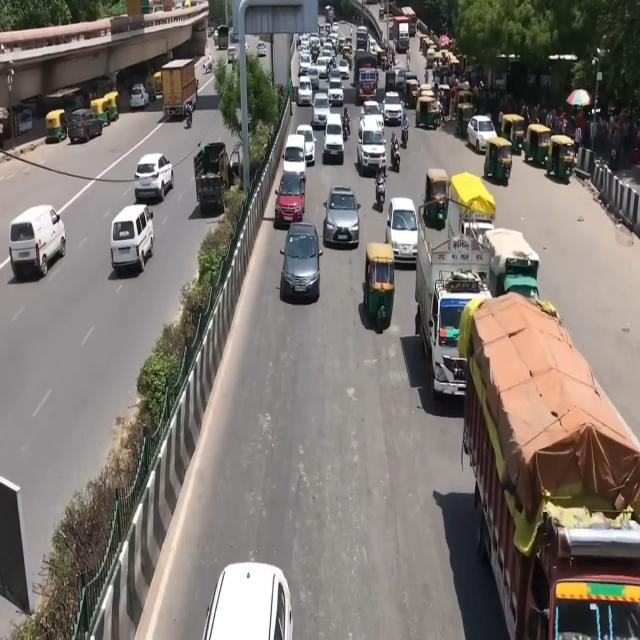auto: (362, 242, 395, 330), (424, 167, 449, 227), (547, 134, 575, 181), (485, 136, 513, 183), (524, 122, 552, 166), (44, 104, 71, 147), (500, 112, 526, 155), (415, 94, 439, 132), (456, 100, 478, 140), (90, 94, 112, 132), (405, 78, 420, 110)
bike-auto: (390, 134, 400, 170), (342, 107, 351, 139), (401, 118, 409, 148), (185, 100, 193, 128)
